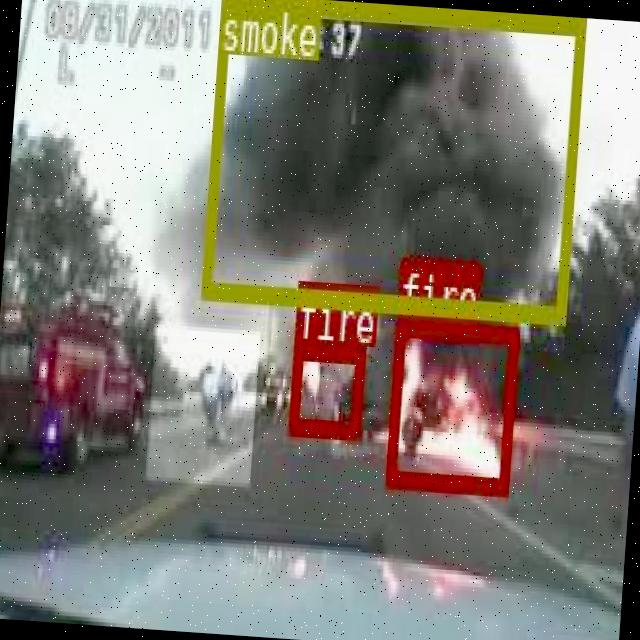fire: (383, 315, 518, 490), (288, 339, 364, 436)
smoke: (200, 0, 582, 322)
